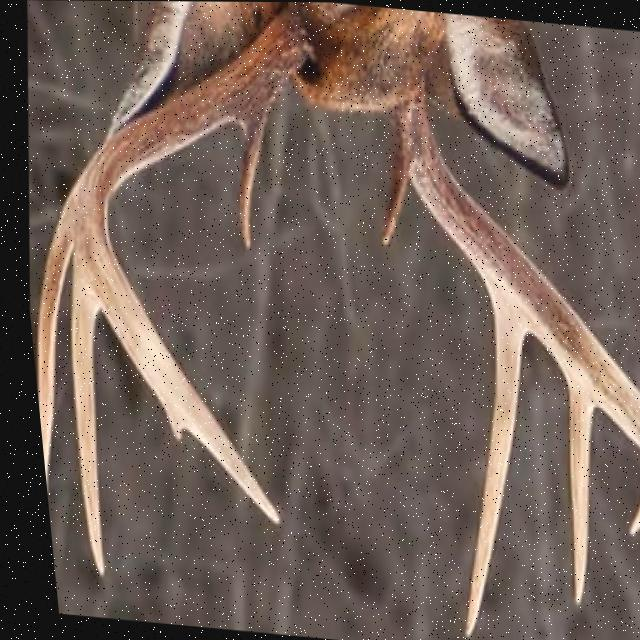E1: (157, 408, 175, 442)
L-F: (73, 2, 312, 526)
L-G1: (233, 109, 266, 252)
L-G2: (29, 173, 78, 483)
L-G3: (64, 250, 94, 578)
R-F: (386, 73, 640, 537)
R-G1: (376, 143, 408, 247)
R-G2: (451, 302, 519, 638)
R-G3: (560, 385, 587, 604)
